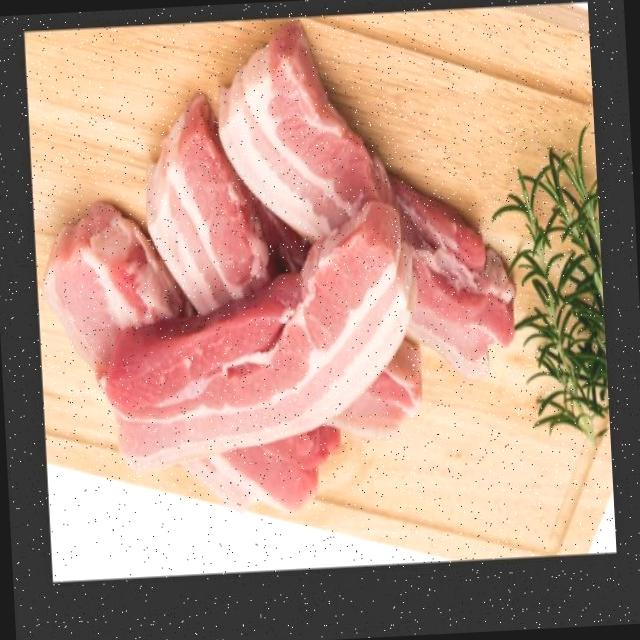pork: (45, 212, 339, 510), (102, 207, 417, 469), (218, 28, 404, 240), (141, 95, 294, 310), (404, 177, 512, 378)
